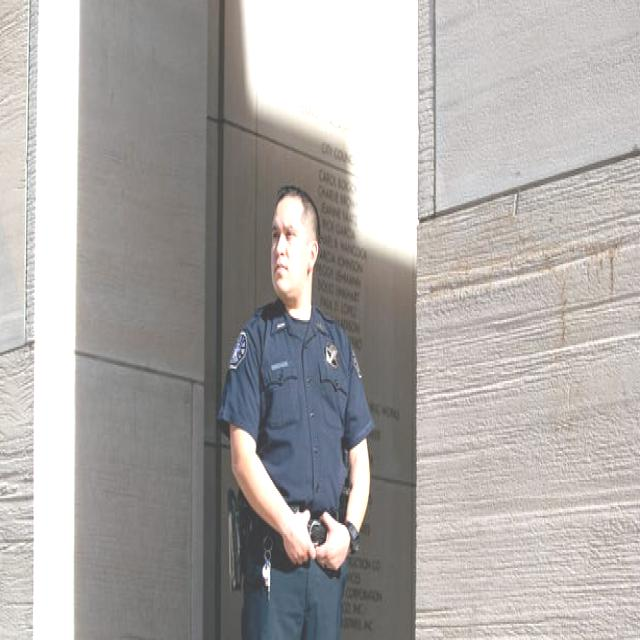police: (212, 153, 382, 640)
